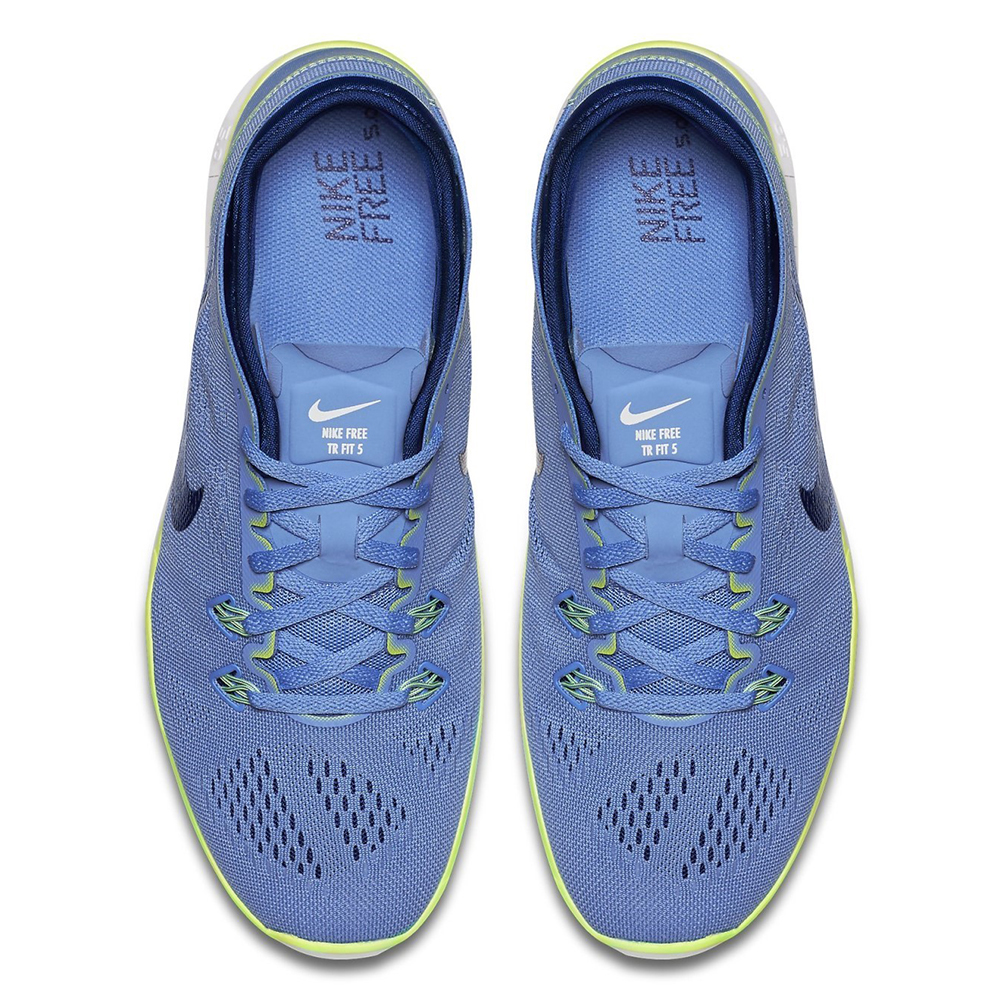Nike: (305, 144, 361, 250), (617, 151, 676, 250), (295, 389, 388, 427), (616, 395, 704, 430)
